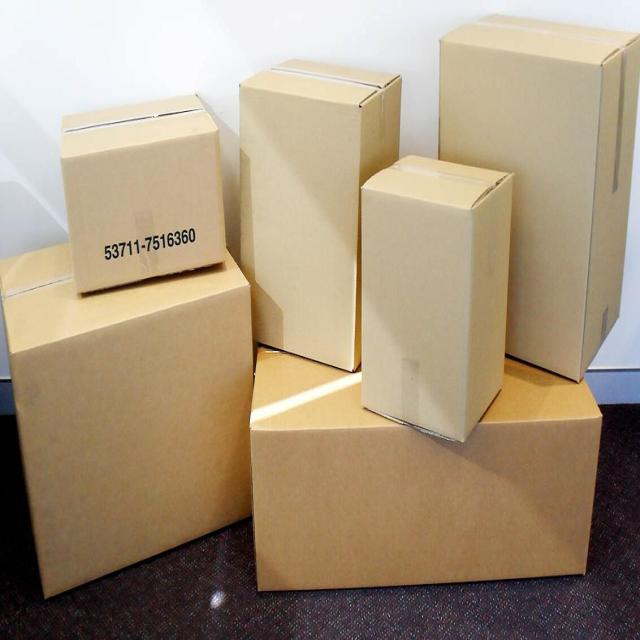cardboard: (0, 217, 256, 603), (250, 343, 604, 592), (437, 10, 640, 386), (238, 53, 402, 374), (359, 150, 515, 445), (58, 91, 227, 295)
